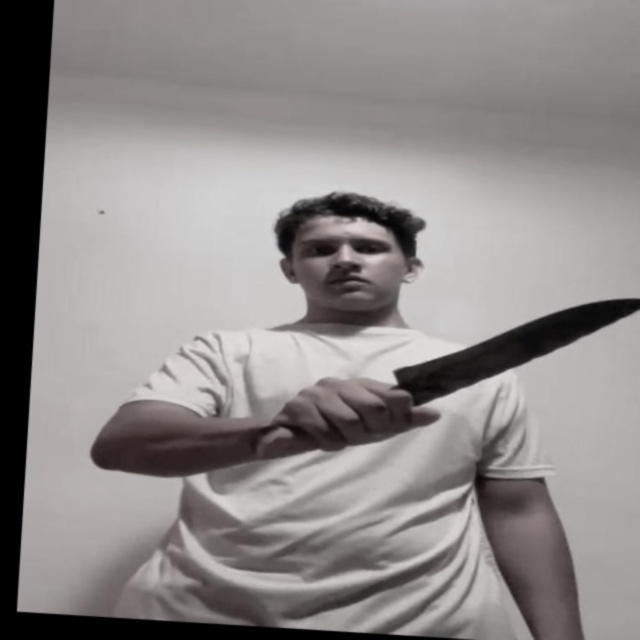Sharp-Object: (392, 283, 640, 409)
